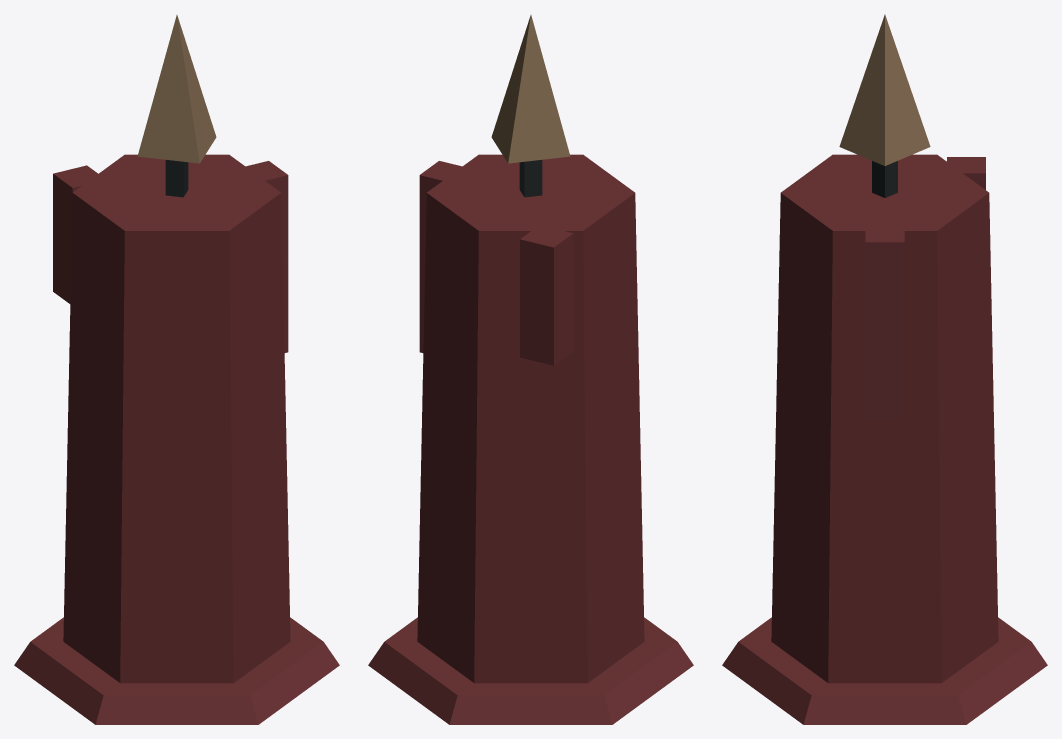
The model's file is lumanare.glb.
The picture shows the model from 3 angles, left to right: view 1: azimuth 30°, elevation 25°; view 2: azimuth 150°, elevation 25°; view 3: azimuth 270°, elevation 25°; orthographic projection.
Visible parts, largest first — view 1: Lumanare, Flacara; view 2: Lumanare, Flacara; view 3: Lumanare, Flacara.
Part boxes in pixels (left/top/right/bottom): Lumanare: left=14, top=154, right=339, bottom=724; Flacara: left=137, top=15, right=216, bottom=163; Lumanare: left=368, top=154, right=693, bottom=724; Flacara: left=491, top=15, right=570, bottom=163; Lumanare: left=722, top=154, right=1047, bottom=724; Flacara: left=839, top=14, right=930, bottom=165.
Size of the model in its own units: 0.0866 by 0.2205 by 0.1.
